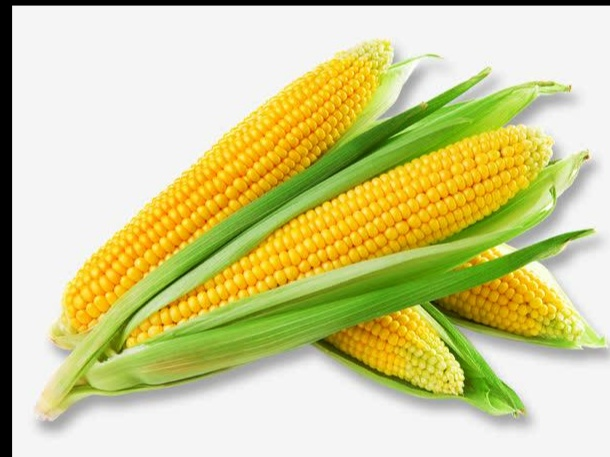corn: (55, 42, 394, 337), (124, 122, 550, 349)
